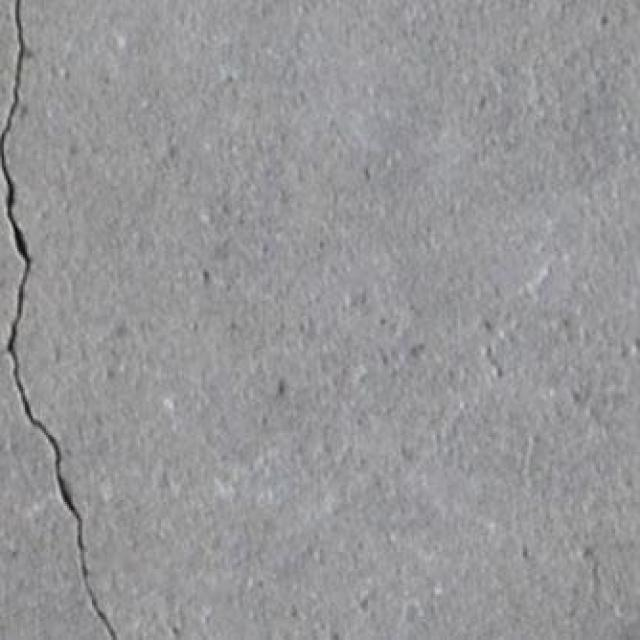vertical crack: (0, 0, 119, 638)
